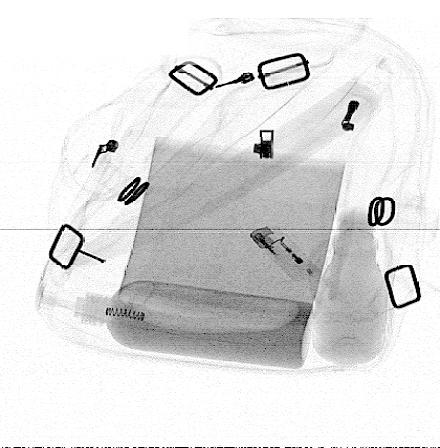Lighter: (249, 222, 321, 284)
